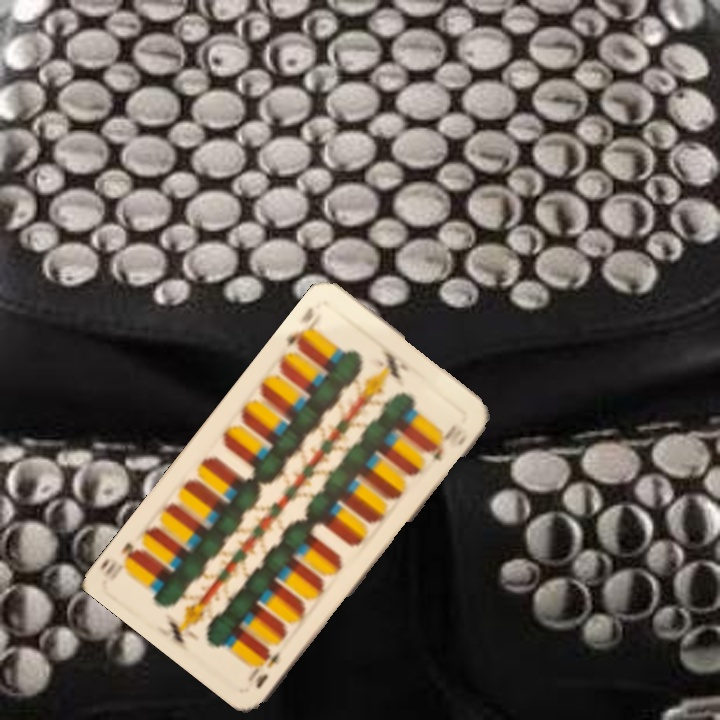E10: (282, 302, 317, 354), (251, 646, 284, 692)
